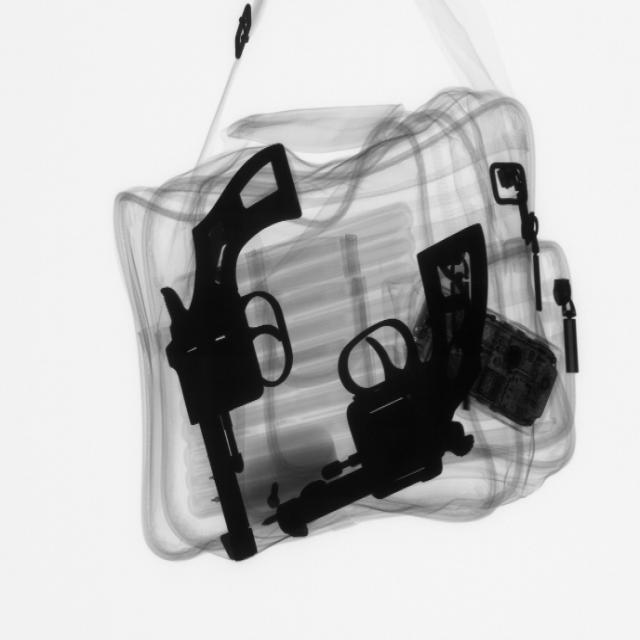GUN: (146, 145, 303, 572), (296, 223, 489, 551)
